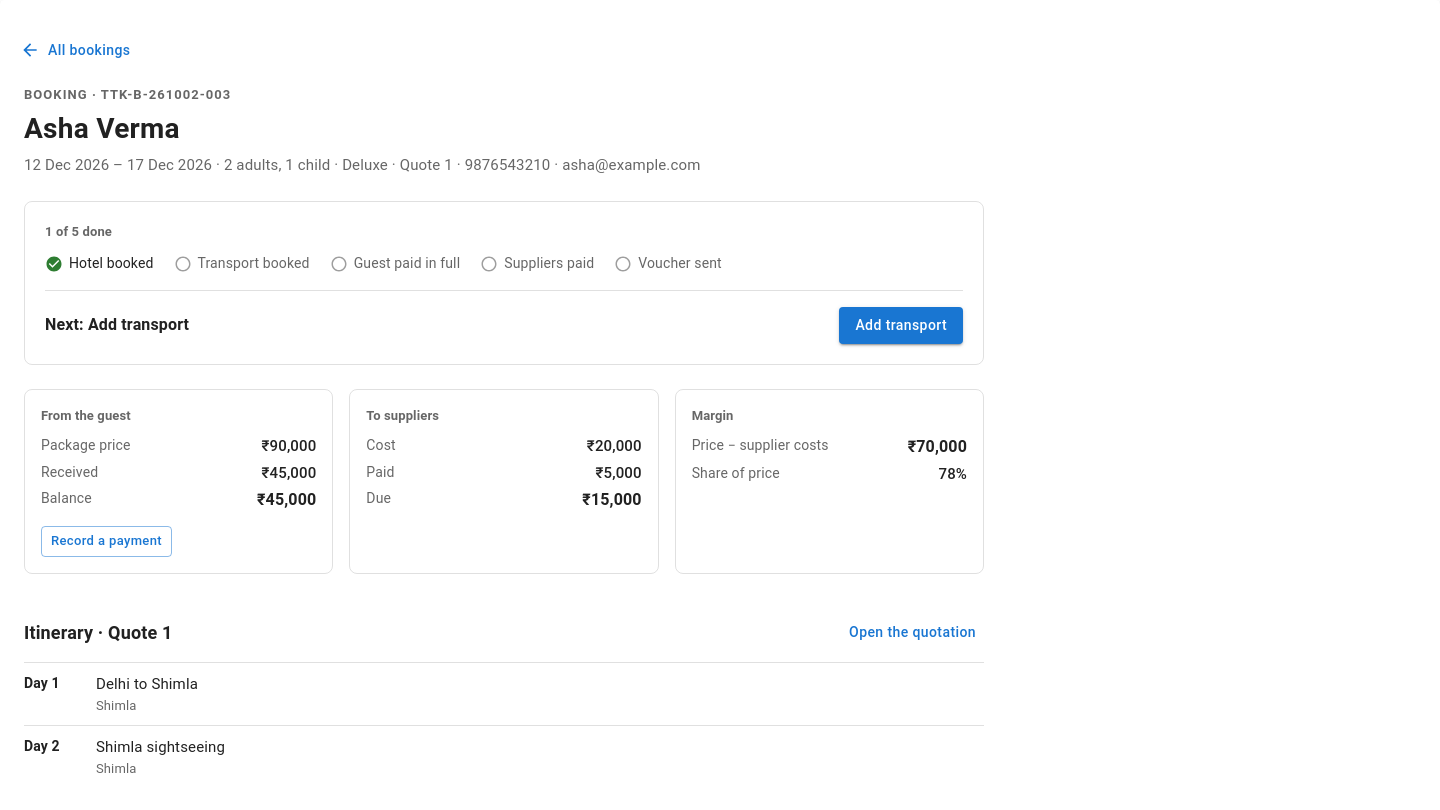
Test case: One booking › the next-step button opens the right form
This screenshot has width=1440, height=810.
Click the button "Add transport".
click(901, 325)  # box [839,307,963,344]
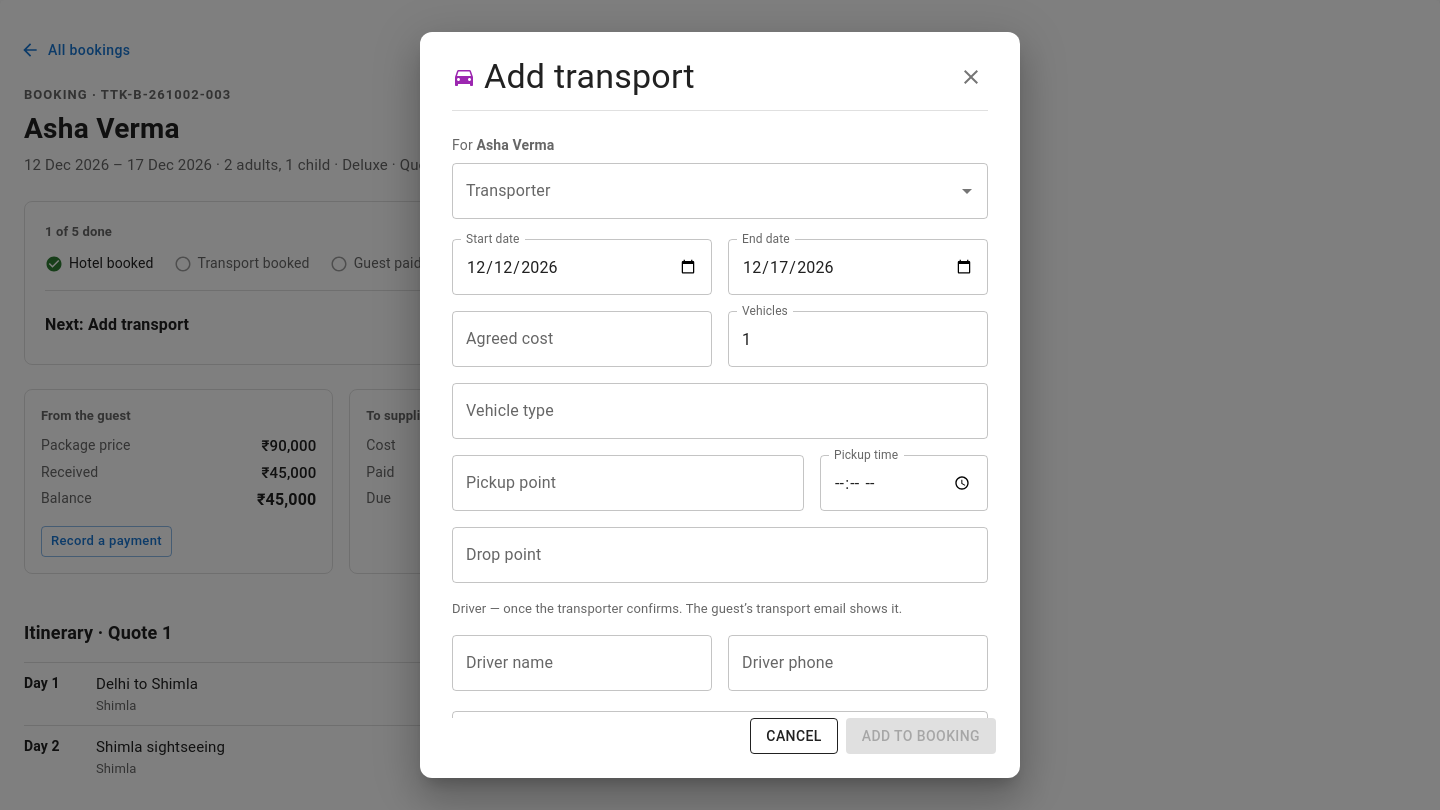
Result: the heading "Add transport" is shown at [484,56,695,98]
